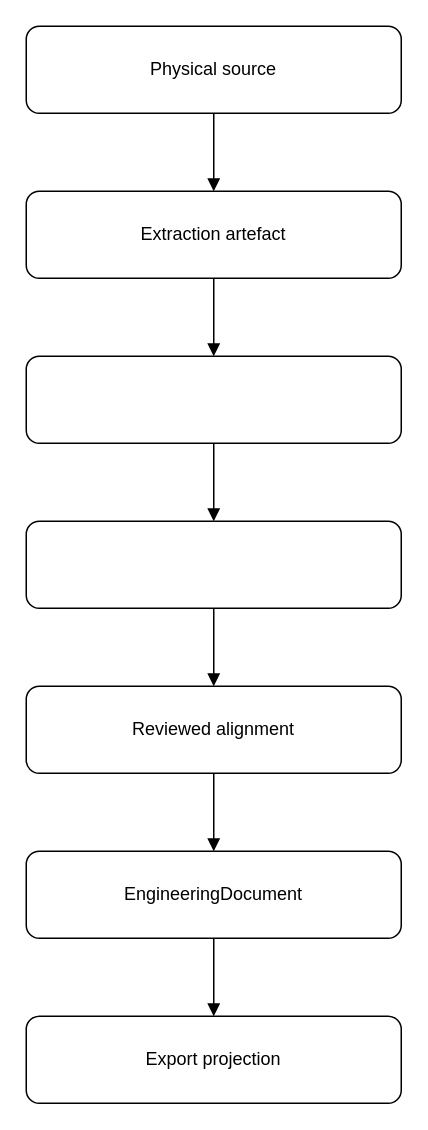
Some shapes in this 428 by 1130 pixel diagram are drawn without their labels. Here are the shapes that lost their labels. From the top down, the centre of each, then its label:
At (x=213, y=399): "Normalization artefact".
At (x=213, y=564): "Alignment proposal".
